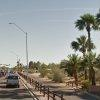Palm tree: (68, 7, 99, 82)
